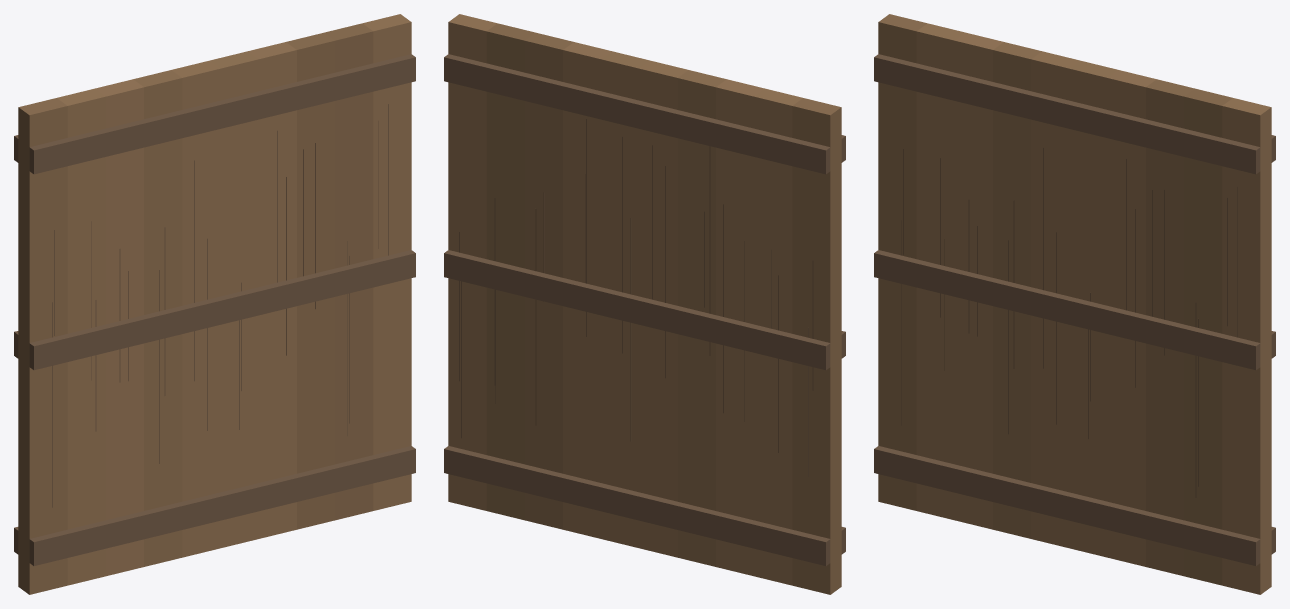
File: wood-wall.glb
3 views of the same model, side by side, from view 1: azimuth 30°, elevation 25°; view 2: azimuth 150°, elevation 25°; view 3: azimuth 330°, elevation 25° (orthographic).
Parts seen in each view (by area): view 1: wood-wall; view 2: wood-wall; view 3: wood-wall.
Boxes of the visible parts, x1,y1,x2,y2 form: wood-wall: [14, 14, 415, 594]; wood-wall: [444, 14, 845, 594]; wood-wall: [874, 14, 1275, 594].
Bounding box in the file's own units: 2 × 2.4 × 0.18.
